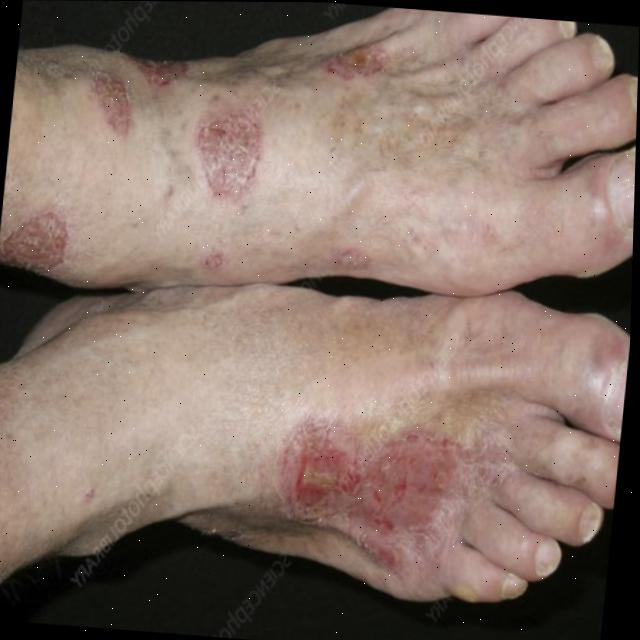Eczema: (10, 43, 444, 290), (281, 424, 503, 585)
